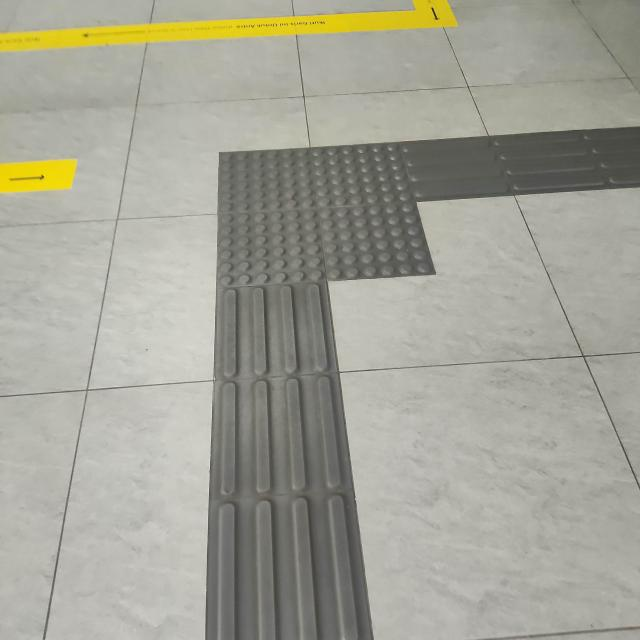kanan: (158, 111, 620, 329)
